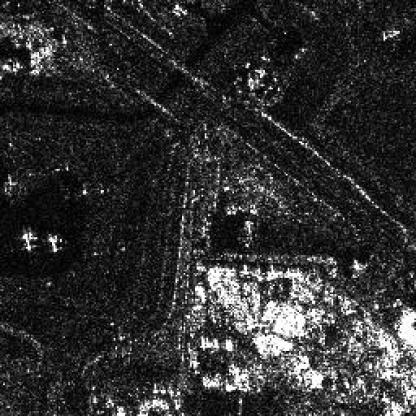airplane: (42, 228, 65, 255), (0, 169, 20, 200), (18, 228, 39, 255)
